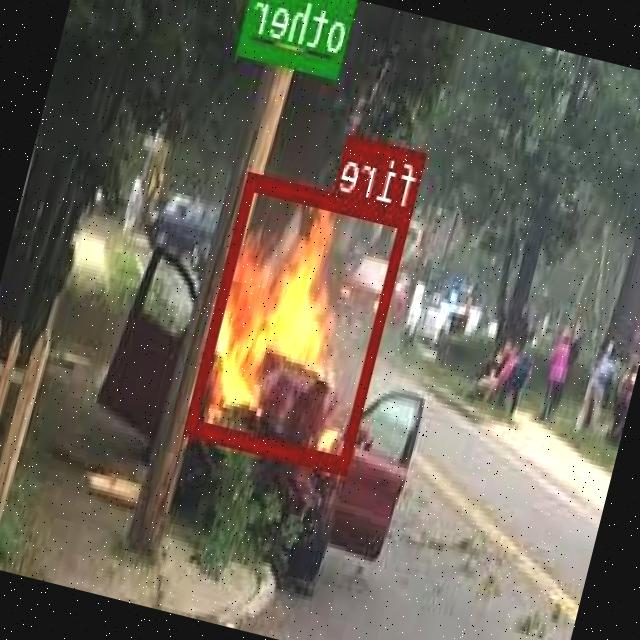fire: (186, 172, 412, 473)
